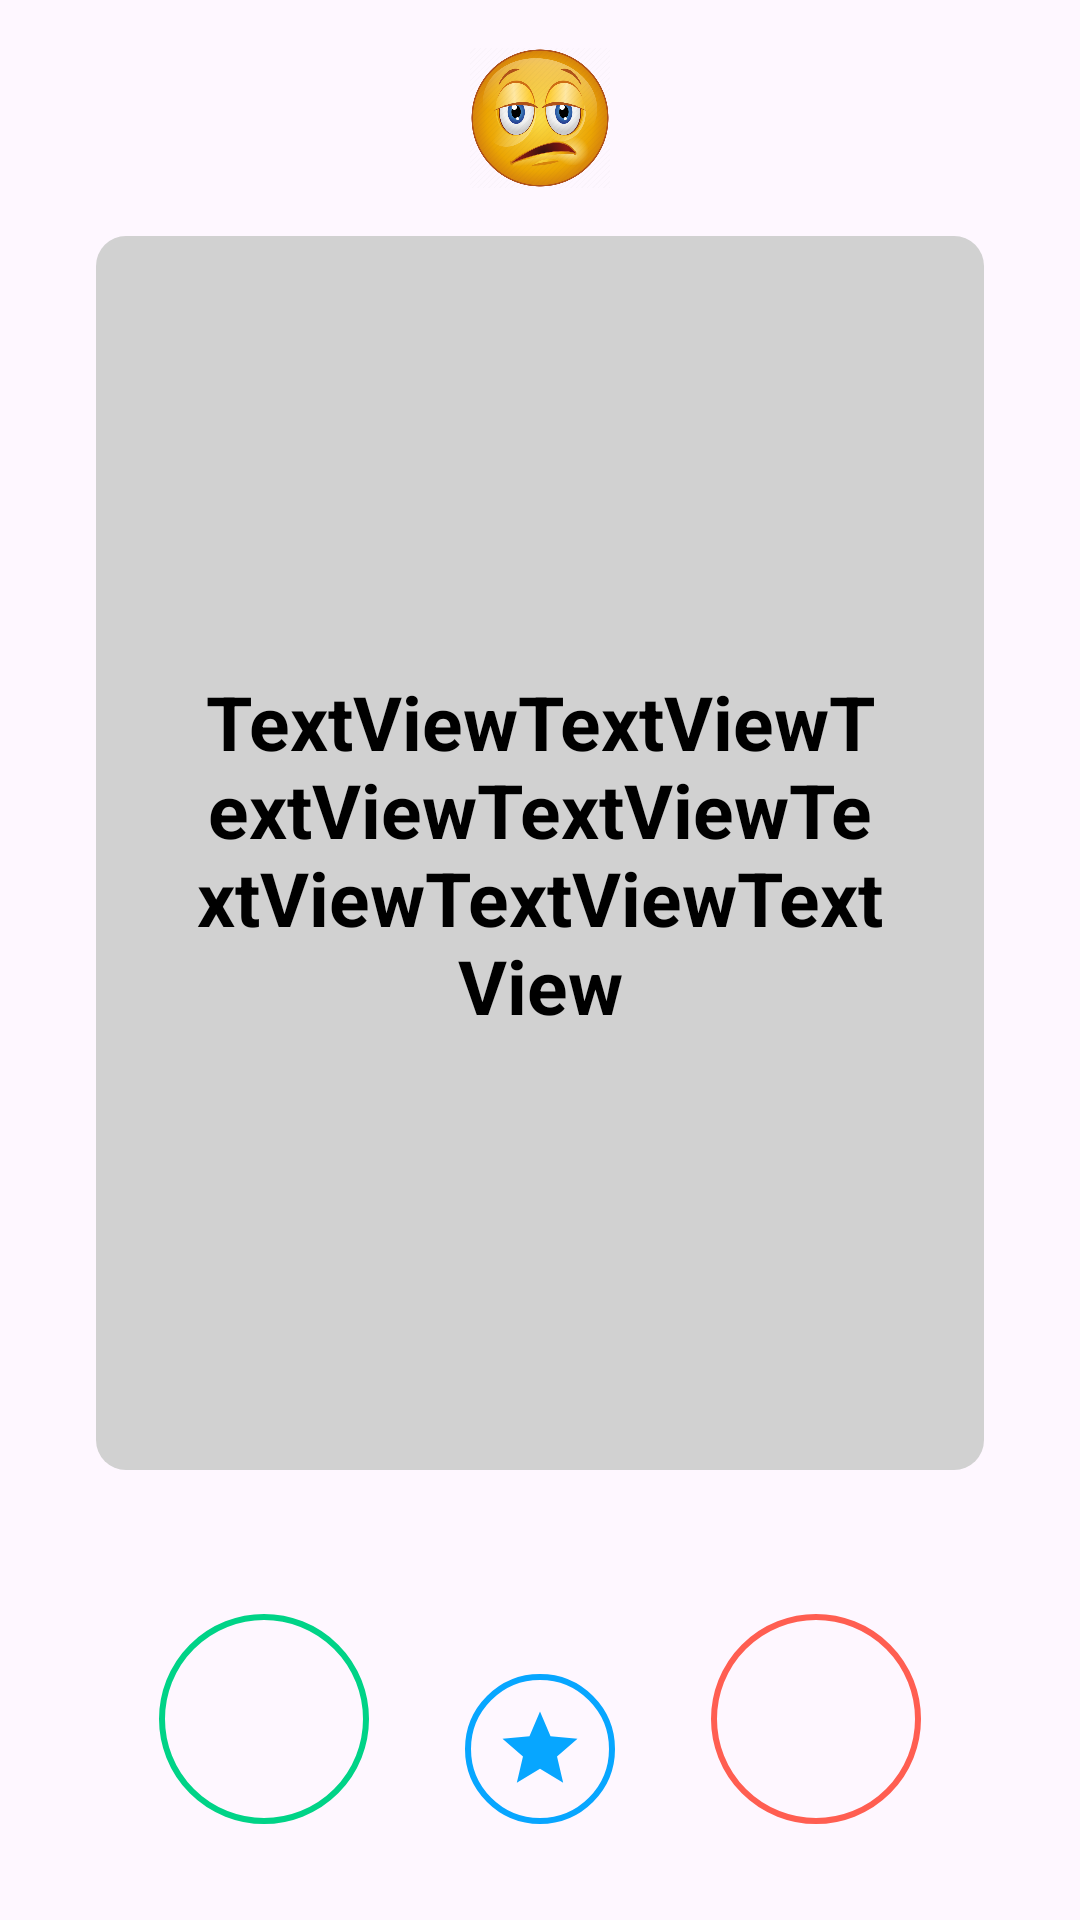

Named icons in this screenshot (1080 × 1920) and their centers, point (x, y):
boring: point (540, 118)
star: point (540, 1747)
